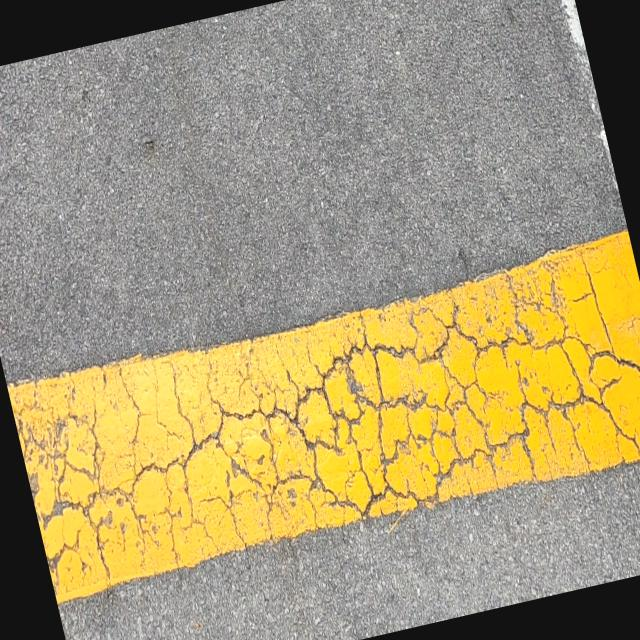Retak-Buaya: (8, 249, 640, 599)
